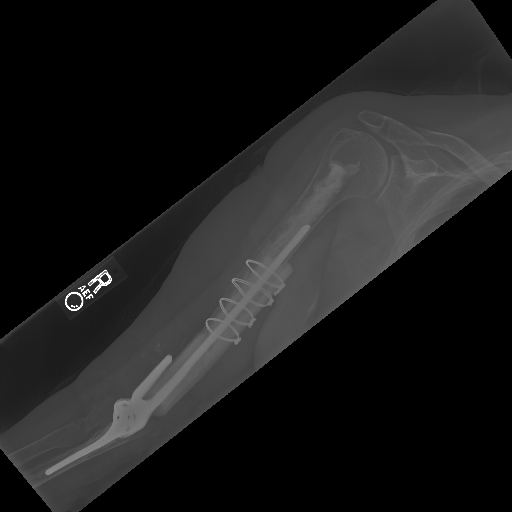implant: (45, 346, 180, 480), (202, 220, 323, 355)
